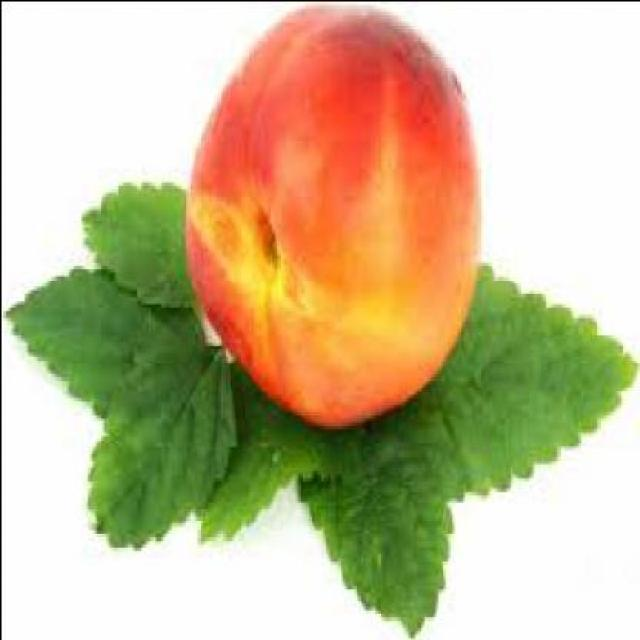BIODEGRADABLE: (185, 8, 480, 431), (385, 277, 634, 492), (295, 423, 465, 640), (6, 271, 205, 423), (86, 351, 237, 551), (193, 360, 331, 540), (80, 183, 191, 309)
